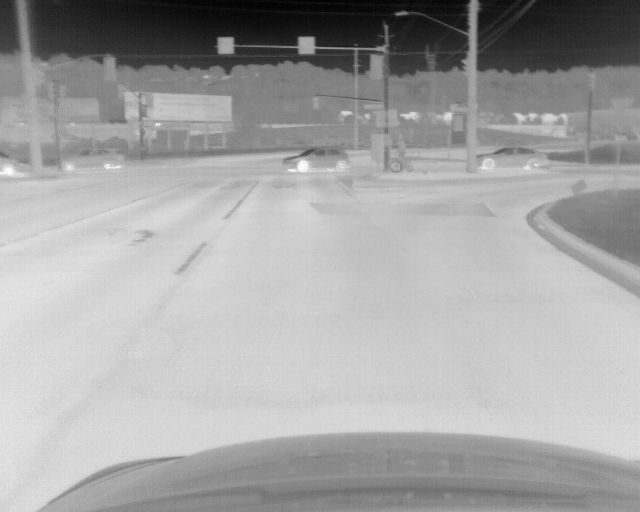car: (474, 146, 550, 171), (281, 146, 350, 173), (60, 146, 128, 172), (1, 155, 19, 176)
